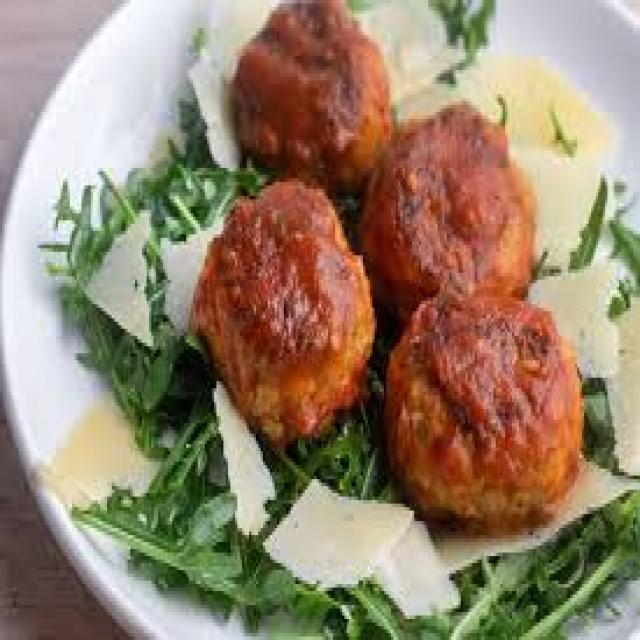meatball: (380, 285, 582, 531), (193, 182, 371, 449), (348, 99, 543, 318)
